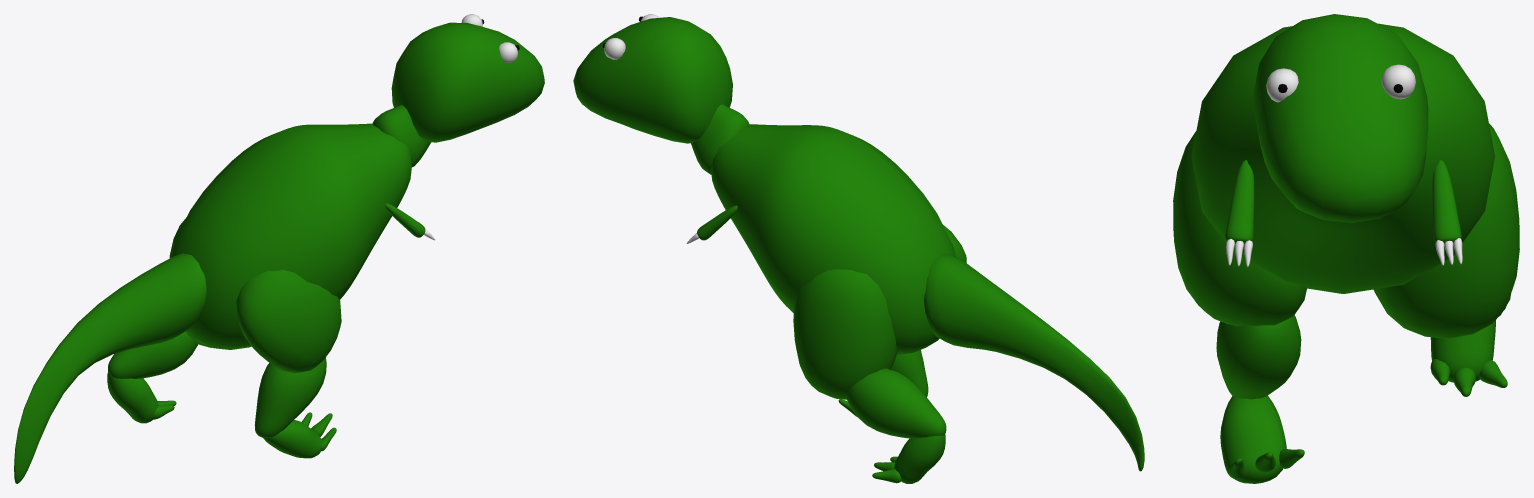
The model's file is Trexn't.fbx.
The picture shows the model from 3 angles, left to right: view 1: azimuth 30°, elevation 25°; view 2: azimuth 150°, elevation 25°; view 3: azimuth 270°, elevation 25°; orthographic projection. The views are drawn at different scales.
Parts seen in each view (by area): view 1: body, Head, Cube.001, tail, Cube.003; view 2: body, Cube.003, Head, tail, Cube.001; view 3: body, Head, Cube.001, Cube.003, arms, eye1, eye2, NailRight, nailLeft.
Boxes of the visible parts, x1,y1,x2,y2 form: body: (170, 123, 411, 349); Head: (372, 22, 544, 167); Cube.001: (236, 270, 341, 458); tail: (14, 253, 206, 483); Cube.003: (107, 218, 212, 423); body: (711, 124, 955, 354); Cube.003: (793, 269, 946, 483); Head: (573, 17, 749, 174); tail: (924, 253, 1144, 471); Cube.001: (838, 225, 966, 416); body: (1191, 23, 1495, 293); Head: (1252, 14, 1428, 222); Cube.001: (1173, 131, 1306, 483); Cube.003: (1373, 123, 1519, 396); arms: (1225, 160, 1461, 245); eye1: (1381, 64, 1415, 99); eye2: (1266, 68, 1298, 102); NailRight: (1226, 239, 1252, 267); nailLeft: (1435, 238, 1462, 265).
Bounding box in the file's own units: 1211 × 787 × 414.
